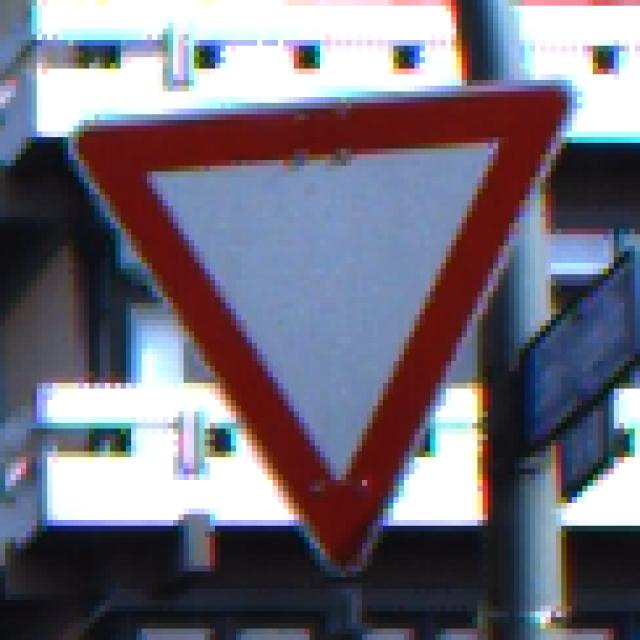Give Way: (54, 58, 589, 590)
